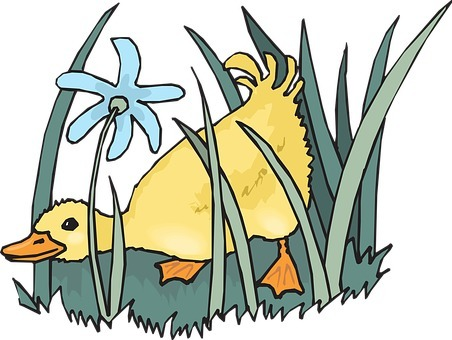bird: (15, 43, 323, 303)
